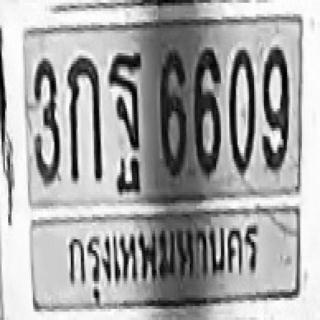A01: (66, 54, 101, 179)
A16: (106, 49, 141, 174)
N00: (228, 47, 254, 173)
N03: (31, 56, 59, 184)
N06: (193, 47, 220, 173), (158, 49, 185, 174)
N09: (262, 46, 290, 171)
P04: (58, 219, 265, 307)
